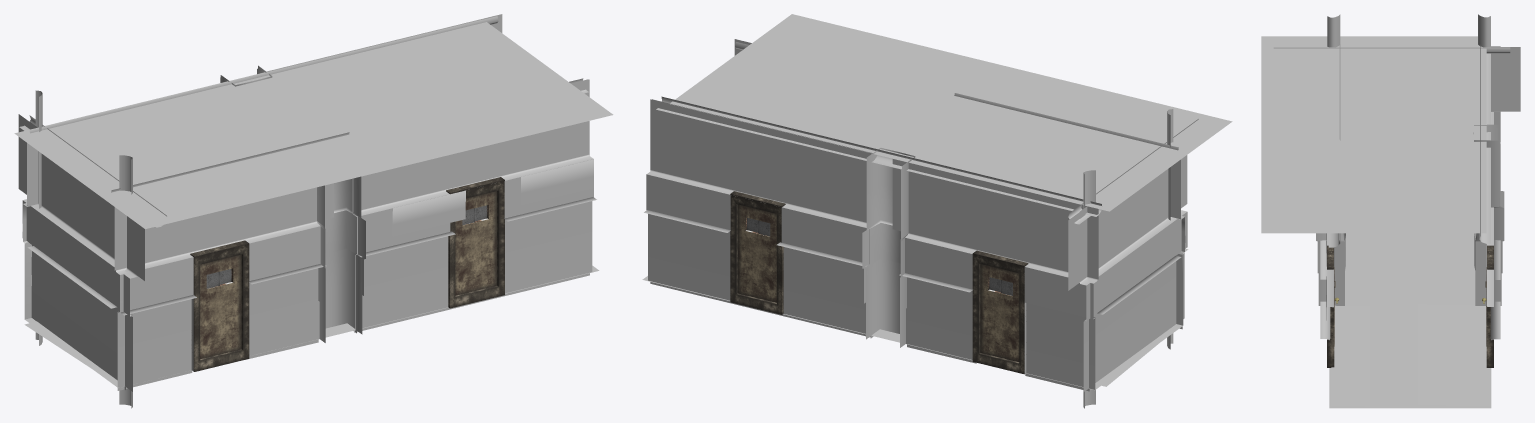
The model's file is TheNewestRoom_NOT.fbx.
3 views of the same model, side by side, from view 1: azimuth 30°, elevation 25°; view 2: azimuth 150°, elevation 25°; view 3: azimuth 270°, elevation 25° (orthographic). The views are drawn at different scales.
Visible parts, largest first — view 1: polySurface278, polySurface364, polySurface340, polySurface306, polySurface282, polySurface341, polySurface366, polySurface343, polySurface352, polySurface353, polySurface336, polySurface338 (+8 smaller); view 2: polySurface278, polySurface354, polySurface283, polySurface306, polySurface284, polySurface144, polySurface356, polySurface290, polySurface338, polySurface336, polySurface347, polySurface289 (+4 smaller); view 3: polySurface278, polySurface219, pPlane43, pPlane50, polySurface336, pPlane36, pPlane51, polySurface284, polySurface287, polySurface344, polySurface247, polySurface338 (+13 smaller).
Part boxes in pixels (<box>): polySurface278: <box>14,19,613,229</box>; polySurface364: <box>352,79,593,329</box>; polySurface340: <box>116,187,320,387</box>; polySurface306: <box>22,122,137,391</box>; polySurface282: <box>190,240,249,371</box>; polySurface341: <box>317,176,365,342</box>; polySurface366: <box>446,177,504,308</box>; polySurface343: <box>118,268,317,383</box>; polySurface352: <box>392,190,465,236</box>; polySurface353: <box>521,159,593,204</box>; polySurface336: <box>18,114,144,280</box>; polySurface338: <box>259,16,498,77</box>; polySurface278: <box>670,14,1232,211</box>; polySurface354: <box>646,99,871,333</box>; polySurface283: <box>905,163,1097,389</box>; polySurface306: <box>1079,169,1187,391</box>; polySurface284: <box>862,154,907,347</box>; polySurface144: <box>972,250,1028,374</box>; polySurface356: <box>730,191,785,314</box>; polySurface290: <box>872,149,1101,216</box>; polySurface338: <box>656,96,885,163</box>; polySurface336: <box>1068,155,1187,290</box>; polySurface347: <box>954,93,1178,150</box>; polySurface289: <box>892,159,1098,279</box>; polySurface278: <box>1261,36,1486,233</box>; polySurface219: <box>1329,234,1491,408</box>; pPlane43: <box>1418,304,1489,405</box>; pPlane50: <box>1331,305,1369,406</box>; polySurface336: <box>1491,47,1520,111</box>; pPlane36: <box>1451,233,1475,305</box>; pPlane51: <box>1345,233,1367,305</box>; polySurface284: <box>1476,127,1504,305</box>; polySurface287: <box>1475,241,1486,305</box>; polySurface344: <box>1334,241,1344,305</box>; polySurface247: <box>1473,124,1498,206</box>; polySurface338: <box>1479,136,1490,243</box>.
Size of the model in its own units: 62.16 by 29.99 by 32.83.
